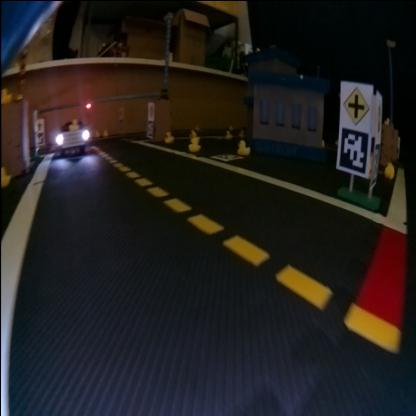Duckie: (236, 138, 250, 152), (1, 86, 12, 102), (384, 162, 394, 178), (188, 137, 198, 147), (164, 130, 174, 140)
Duckiebot: (56, 122, 89, 154)
Intersection sign: (343, 84, 369, 122)
QR code: (340, 130, 368, 172), (212, 152, 240, 160)
